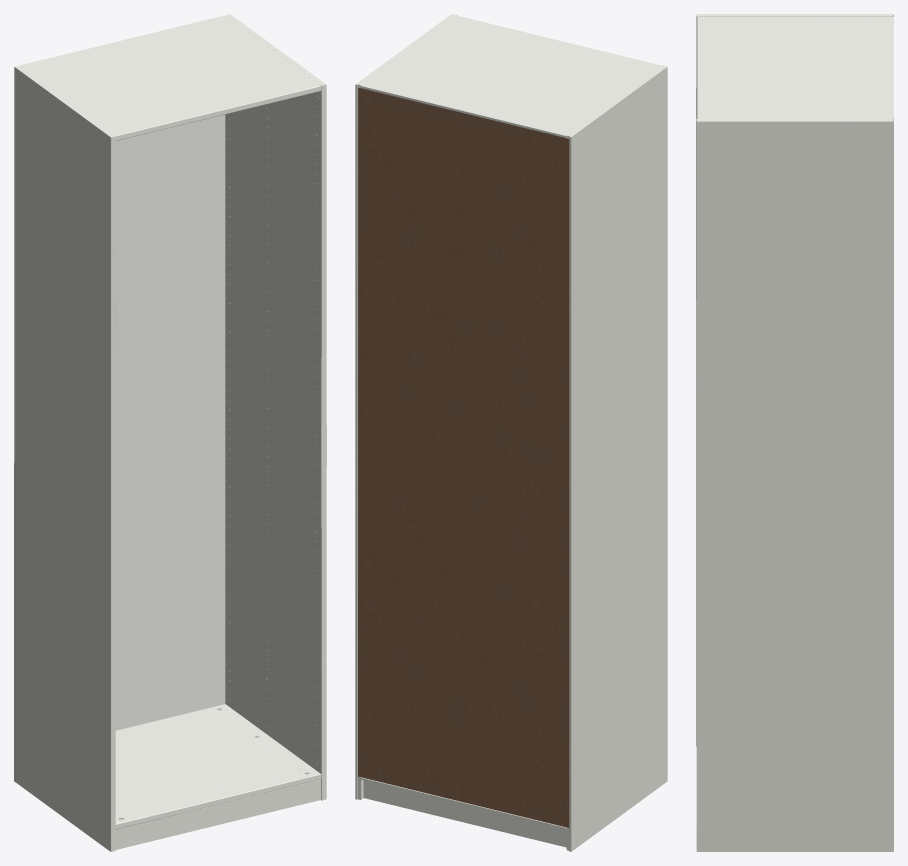
File: pax_obudowa_szafy_20214571.glb
The picture shows the model from 3 angles, left to right: view 1: azimuth 30°, elevation 25°; view 2: azimuth 150°, elevation 25°; view 3: azimuth 270°, elevation 25°; orthographic projection. The views are drawn at different scales.
Visible parts, largest first — view 1: pax_obudowa_szafy_20214571; view 2: pax_obudowa_szafy_20214571; view 3: pax_obudowa_szafy_20214571.
Boxes of the visible parts, x1,y1,x2,y2 form: pax_obudowa_szafy_20214571: (14, 14, 326, 851); pax_obudowa_szafy_20214571: (355, 14, 667, 851); pax_obudowa_szafy_20214571: (696, 14, 893, 851).
Size of the model in its own units: 0.7479 by 2.36 by 0.5807.
Materials: 1 (1 with a texture image).
